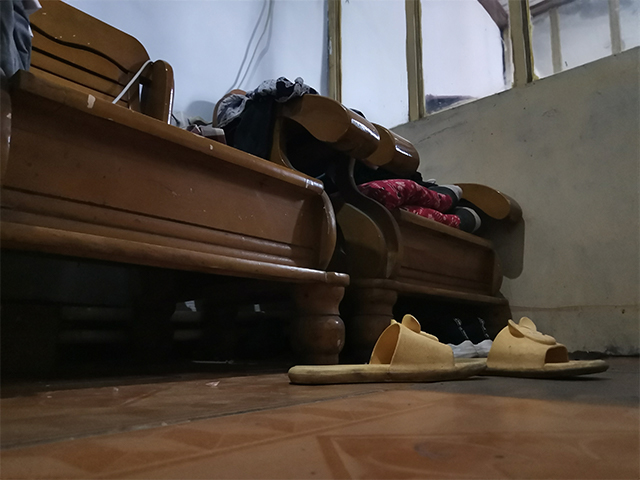slippers: (285, 311, 484, 385), (489, 315, 612, 375)
stool: (1, 1, 525, 368)
